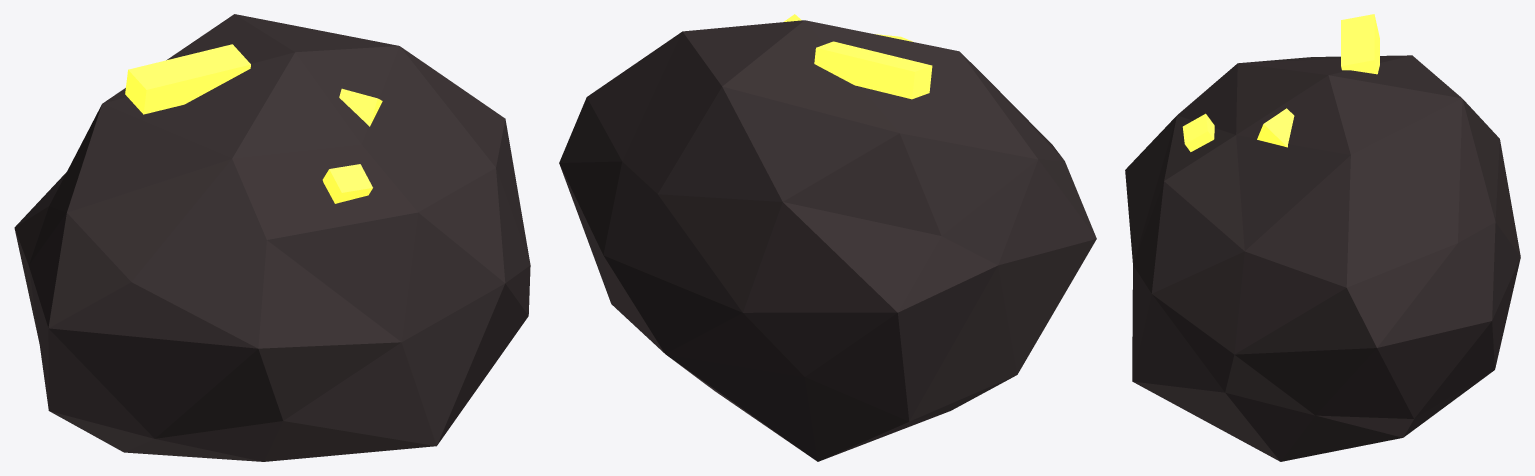
File: hd_lavabomb.gltf
3 views of the same model, side by side, from view 1: azimuth 30°, elevation 25°; view 2: azimuth 150°, elevation 25°; view 3: azimuth 270°, elevation 25° (orthographic). The views are drawn at different scales.
Parts seen in each view (by area): view 1: rock, seam0, seam2, seam1; view 2: rock, seam0; view 3: rock, seam0, seam1, seam2.
Boxes of the visible parts, left/top/right/bottom form: rock: left=14, top=14, right=530, bottom=461; seam0: left=125, top=44, right=250, bottom=114; seam2: left=322, top=164, right=372, bottom=203; seam1: left=339, top=88, right=382, bottom=126; rock: left=559, top=20, right=1096, bottom=461; seam0: left=814, top=41, right=932, bottom=99; rock: left=1125, top=55, right=1520, bottom=461; seam0: left=1341, top=14, right=1379, bottom=74; seam1: left=1257, top=108, right=1294, bottom=147; seam2: left=1182, top=113, right=1214, bottom=151.
Bounding box in the file's own units: 1.56 × 1.15 × 1.16.
